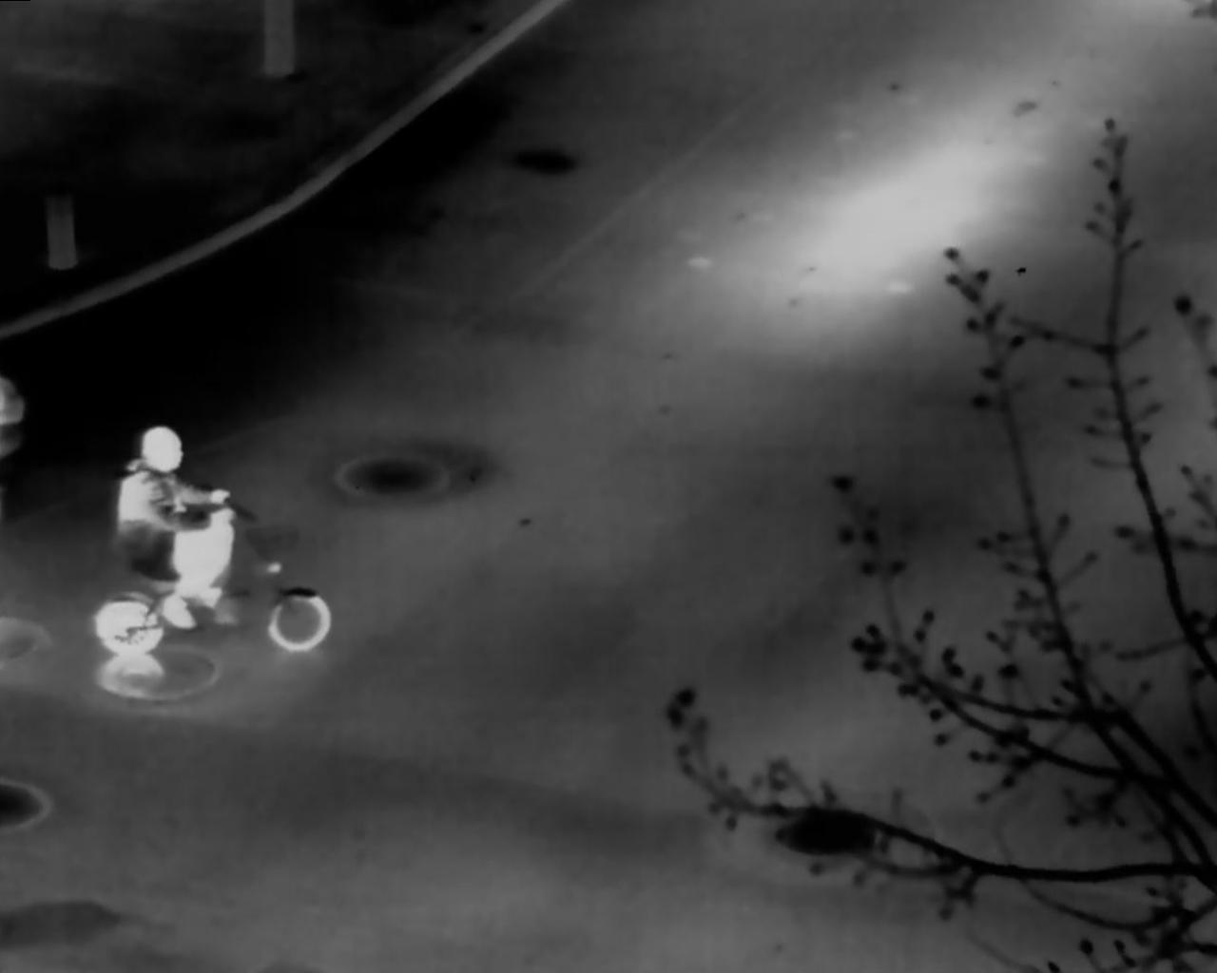person: (115, 422, 232, 633)
